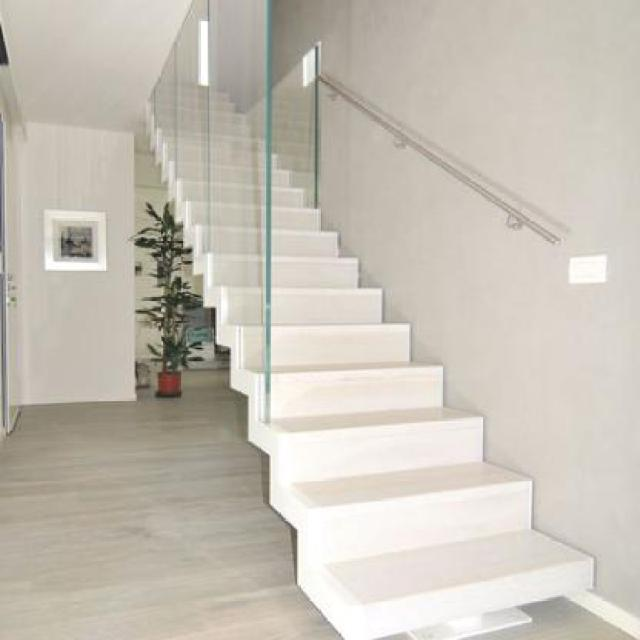stair: (134, 66, 626, 625)
